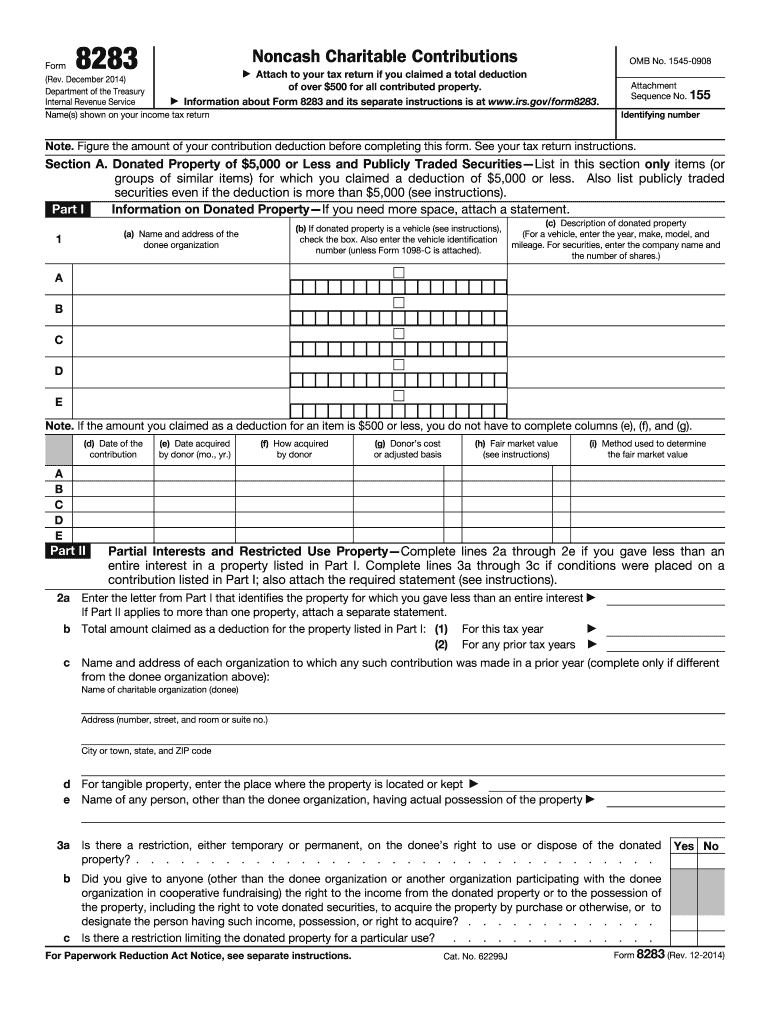checkbox: (694, 925, 729, 950), (694, 849, 729, 873), (694, 911, 728, 934), (666, 911, 701, 933), (667, 927, 699, 949), (668, 851, 699, 870), (391, 387, 407, 403), (391, 265, 407, 279), (391, 295, 407, 309), (390, 327, 406, 340), (391, 358, 407, 371)
textbox: (41, 103, 618, 144), (503, 253, 728, 301), (499, 318, 734, 363), (496, 350, 735, 393), (501, 382, 736, 423), (67, 320, 295, 362), (65, 351, 297, 392), (499, 290, 728, 330), (67, 380, 292, 420), (69, 259, 291, 299), (69, 291, 295, 330), (611, 98, 729, 143), (568, 508, 730, 531), (568, 524, 730, 547), (567, 462, 728, 485), (567, 478, 727, 500), (568, 494, 728, 515), (232, 461, 356, 484), (232, 476, 356, 499), (455, 476, 573, 500), (231, 508, 357, 530), (350, 460, 465, 484), (457, 461, 576, 484), (457, 493, 574, 516), (457, 507, 574, 530), (350, 508, 465, 531), (348, 478, 468, 500), (232, 494, 357, 515), (232, 525, 356, 546), (457, 524, 574, 546), (349, 524, 465, 546), (350, 493, 465, 515), (68, 477, 158, 501), (149, 461, 239, 484), (69, 493, 158, 516), (149, 524, 239, 546), (70, 462, 159, 484), (70, 509, 160, 530), (149, 478, 239, 499), (150, 509, 240, 530), (150, 494, 239, 515), (70, 525, 157, 546), (376, 272, 395, 300), (401, 273, 421, 298), (451, 274, 472, 297), (363, 272, 381, 298), (338, 275, 358, 298), (440, 275, 460, 298), (324, 275, 344, 297), (414, 275, 434, 297), (337, 338, 357, 360), (427, 307, 447, 329), (311, 274, 330, 297), (490, 274, 509, 297), (299, 399, 318, 422), (415, 337, 434, 360), (299, 273, 317, 297), (352, 273, 370, 297), (337, 307, 357, 328), (491, 339, 510, 361), (478, 275, 496, 298), (454, 337, 472, 360), (311, 369, 331, 389), (388, 275, 407, 296), (312, 399, 331, 420), (389, 400, 408, 421), (313, 337, 331, 359), (364, 399, 382, 421), (428, 368, 445, 391), (427, 276, 446, 296), (299, 338, 318, 358), (364, 308, 383, 328), (427, 401, 446, 421), (453, 400, 472, 420), (351, 369, 369, 390), (389, 369, 407, 390), (402, 338, 420, 359), (402, 369, 420, 390), (454, 370, 472, 391), (466, 338, 484, 359), (326, 338, 343, 360), (365, 368, 382, 390), (441, 337, 458, 359), (492, 308, 509, 330), (465, 276, 484, 295), (325, 308, 344, 327), (466, 401, 485, 420), (287, 275, 305, 295), (325, 400, 343, 420), (338, 400, 356, 420), (351, 308, 369, 328), (402, 401, 420, 421), (415, 307, 433, 327), (415, 401, 433, 421), (428, 339, 446, 359), (466, 308, 484, 328), (466, 370, 484, 390), (479, 338, 497, 358), (313, 307, 330, 328), (339, 368, 356, 389), (352, 338, 369, 359), (377, 308, 394, 329), (377, 369, 394, 390), (377, 399, 394, 420), (416, 369, 433, 390), (479, 307, 496, 328), (479, 401, 496, 422), (286, 309, 304, 328), (454, 308, 472, 327), (479, 370, 497, 389), (287, 401, 304, 421), (300, 369, 317, 389), (326, 369, 343, 389), (351, 400, 368, 420), (364, 338, 381, 358), (390, 308, 407, 328), (441, 370, 458, 390), (442, 401, 459, 421), (377, 338, 393, 359), (390, 337, 406, 358), (402, 308, 420, 326), (492, 402, 510, 420), (287, 338, 304, 357), (300, 308, 317, 327), (441, 308, 458, 327), (492, 370, 509, 389), (288, 369, 304, 389)
textline: (76, 756, 739, 779), (75, 725, 733, 747), (80, 805, 736, 827), (79, 695, 730, 715), (490, 774, 737, 796), (603, 794, 731, 811), (604, 591, 726, 608), (605, 623, 726, 640), (603, 641, 728, 654)
